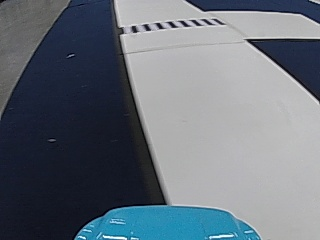CrossWalk: (126, 16, 220, 34)
